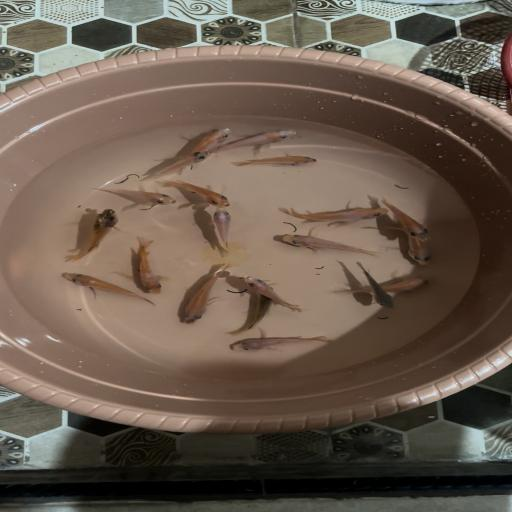nila: (52, 270, 158, 308), (177, 263, 236, 327), (61, 208, 122, 266), (272, 230, 390, 258), (347, 260, 402, 311), (124, 234, 168, 296), (282, 202, 390, 227), (242, 273, 305, 315), (376, 197, 436, 241), (230, 331, 334, 356), (328, 275, 434, 299), (138, 148, 215, 181), (218, 126, 303, 155), (97, 182, 181, 210), (164, 177, 234, 209), (204, 205, 249, 254), (230, 287, 274, 336), (176, 124, 240, 156), (229, 152, 324, 172), (394, 236, 446, 272)
